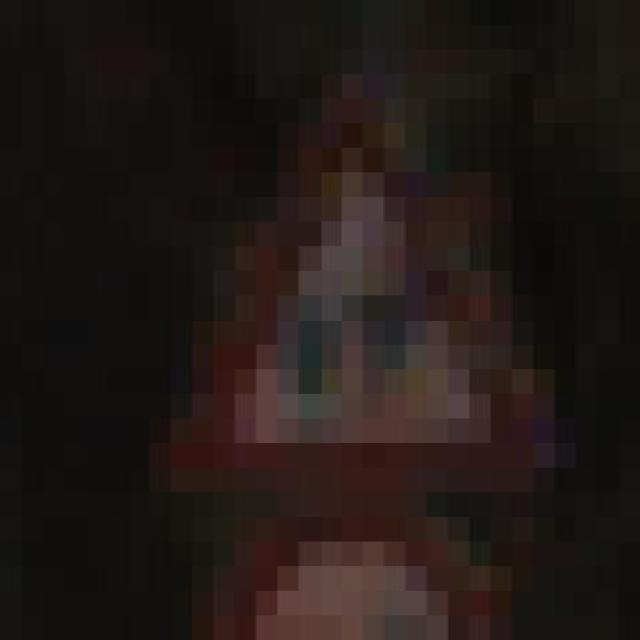Beware of children: (128, 99, 597, 492)
